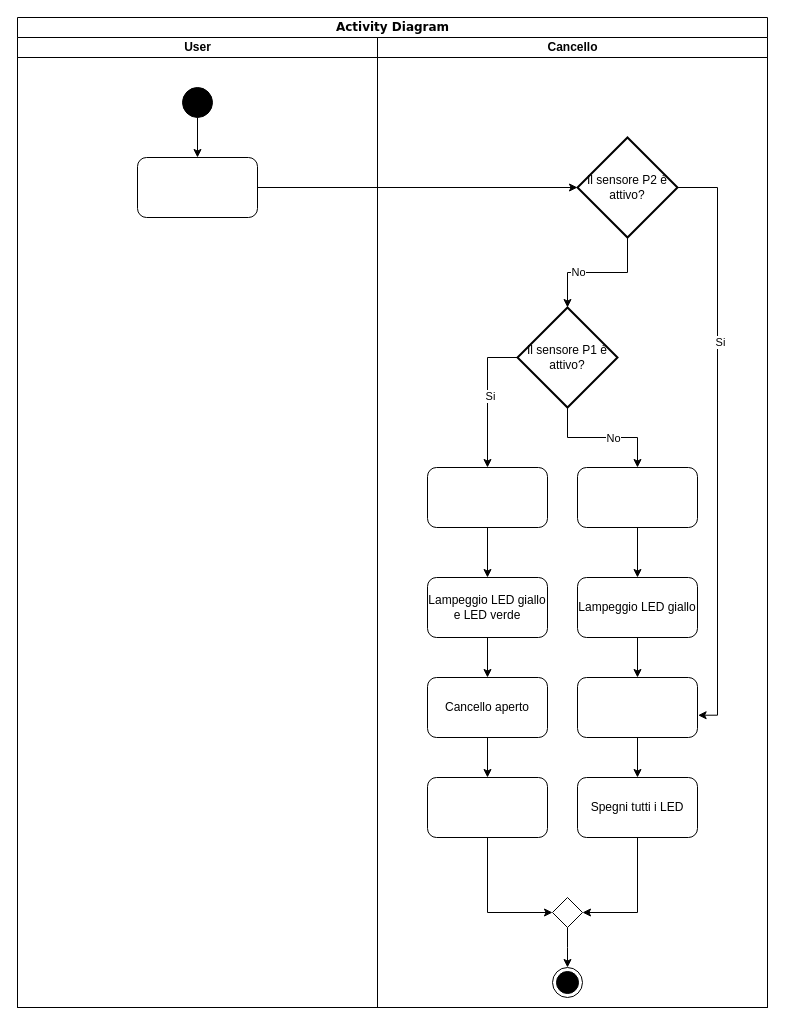
Image size: 785x1025. Some labels were removed from this diagram. Each missing label, with the centre of its shape:
Accendi tutti i LED: [487,807]
Accensione Dispositivo: [197,187]
Cancello chiuso: [637,707]
Il cancello è in fase di apertura: [487,497]
Il cancello è in fase di chiusura: [637,497]
